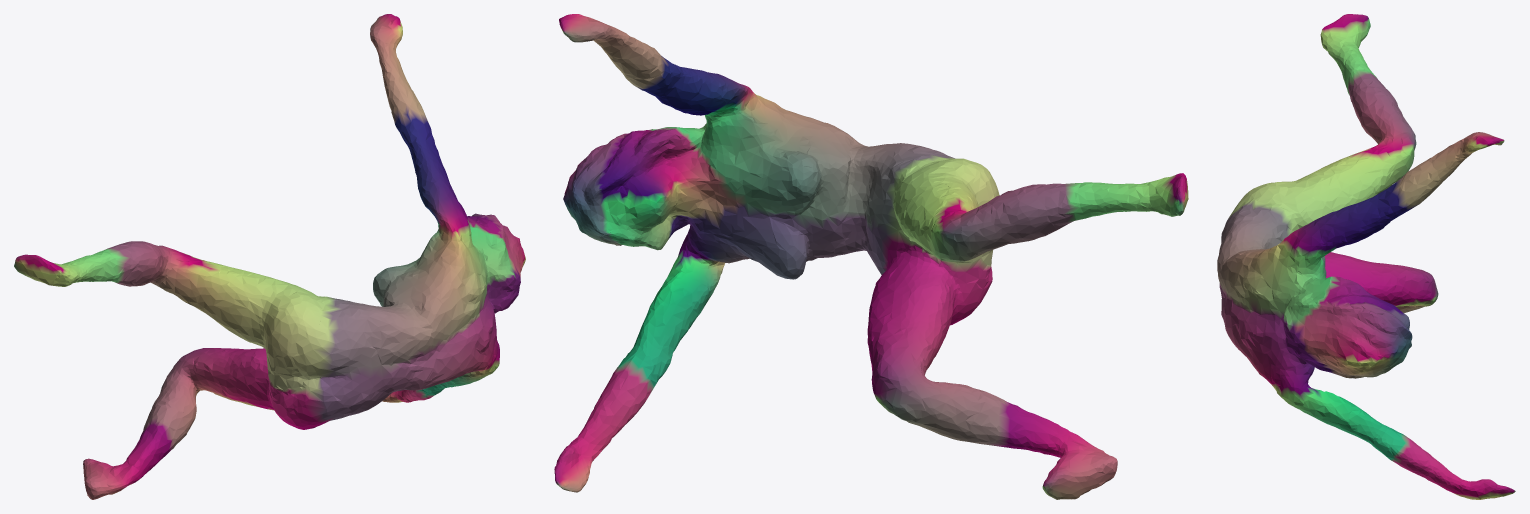
The model's file is woman-10.off.obj.
The picture shows the model from 3 angles, left to right: view 1: azimuth 30°, elevation 25°; view 2: azimuth 150°, elevation 25°; view 3: azimuth 270°, elevation 25°; orthographic projection. The views are drawn at different scales.
Bounding box in the file's own units: 1.38 × 0.9936 × 0.7355.
